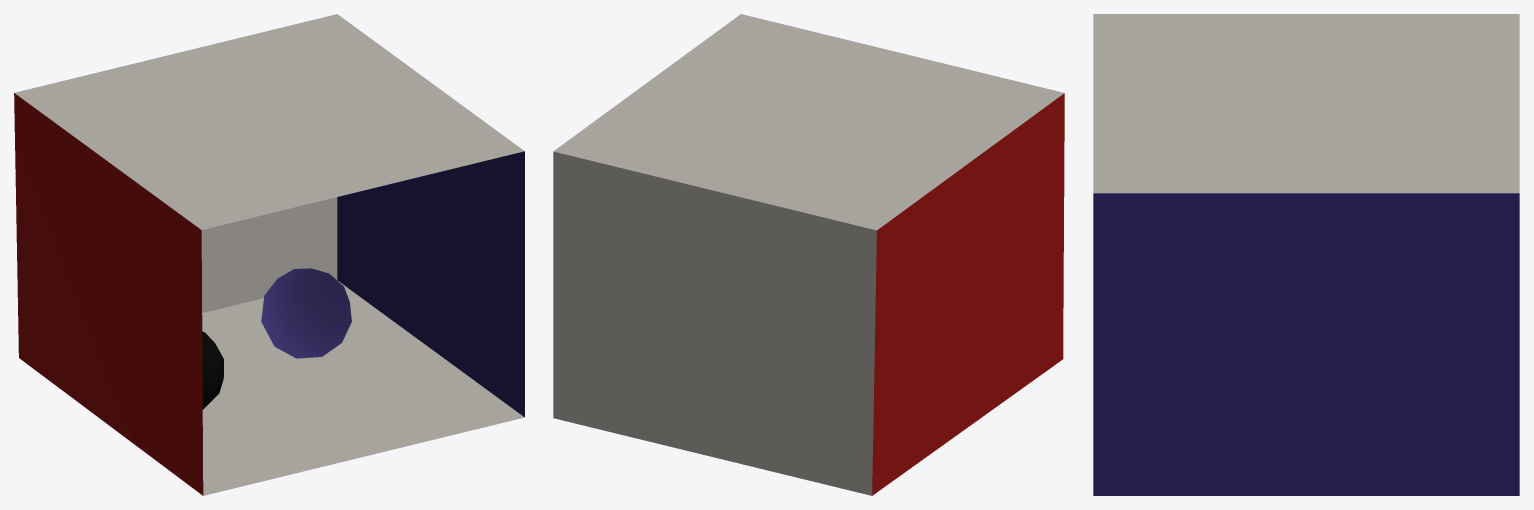
The model's file is CornellBox-Sphere-538.obj.
3 views of the same model, side by side, from view 1: azimuth 30°, elevation 25°; view 2: azimuth 150°, elevation 25°; view 3: azimuth 270°, elevation 25° (orthographic). The views are drawn at different scales.
Parts seen in each view (by area): view 1: ceiling, leftWall, floor, rightWall, backWall, leftSphere, rightSphere; view 2: backWall, ceiling, leftWall; view 3: rightWall, ceiling.
Boxes of the visible parts, bbox=[...] form: ceiling: bbox=[14, 14, 524, 229]; leftWall: bbox=[14, 93, 203, 495]; floor: bbox=[202, 280, 524, 495]; rightWall: bbox=[337, 151, 524, 417]; backWall: bbox=[201, 197, 337, 312]; leftSphere: bbox=[261, 268, 351, 358]; rightSphere: bbox=[202, 331, 223, 409]; backWall: bbox=[553, 151, 876, 495]; ceiling: bbox=[553, 14, 1064, 230]; leftWall: bbox=[872, 93, 1064, 495]; rightWall: bbox=[1093, 193, 1519, 495]; ceiling: bbox=[1093, 14, 1519, 193].
Bounding box in the file's own units: 2.02 × 1.59 × 2.03.
